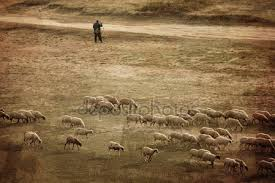sheep: (105, 139, 127, 157), (120, 95, 139, 114), (140, 145, 159, 163), (255, 157, 275, 174), (63, 135, 84, 151), (202, 150, 221, 167), (181, 131, 200, 148), (23, 130, 44, 145), (151, 130, 172, 145), (168, 115, 190, 129), (251, 111, 269, 128), (97, 99, 116, 115), (73, 126, 95, 139), (225, 117, 245, 131), (10, 110, 27, 125), (223, 156, 238, 173), (70, 115, 88, 128), (254, 131, 272, 142), (217, 135, 232, 148), (26, 108, 37, 122), (35, 110, 49, 121)
